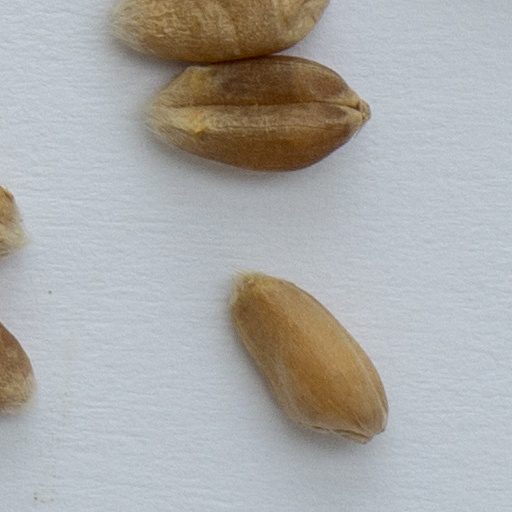Wheat-grain-poly: (226, 269, 391, 448), (138, 55, 373, 173), (111, 0, 333, 63), (0, 318, 34, 413), (0, 183, 35, 263)
